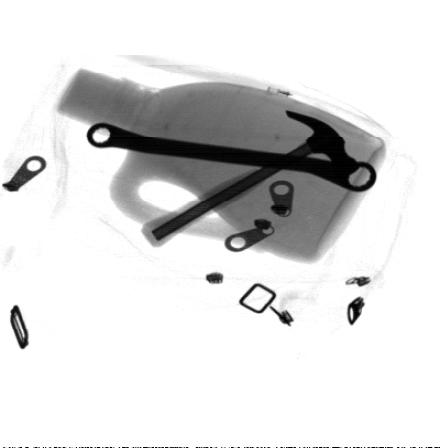Hammer: (140, 111, 362, 249)
Wrench: (86, 122, 377, 193)
